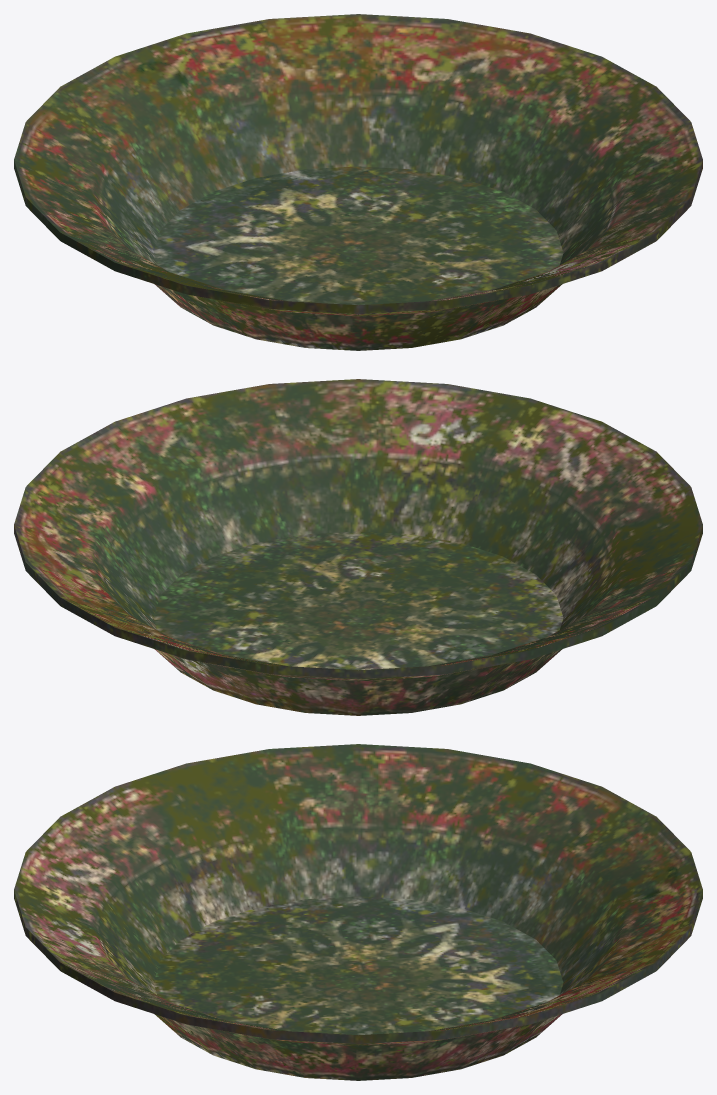
File: SM_Plate_1.fbx
The picture shows the model from 3 angles, top to bottom: view 1: azimuth 30°, elevation 25°; view 2: azimuth 150°, elevation 25°; view 3: azimuth 270°, elevation 25°; orthographic projection.
Visible parts, largest first — view 1: SM_Plate_1; view 2: SM_Plate_1; view 3: SM_Plate_1.
Boxes of the visible parts, x1,y1,x2,y2 form: SM_Plate_1: (14, 14, 702, 350); SM_Plate_1: (14, 379, 702, 715); SM_Plate_1: (14, 744, 702, 1080).
Size of the model in its own units: 0.2702 by 0.0453 by 0.2702.
